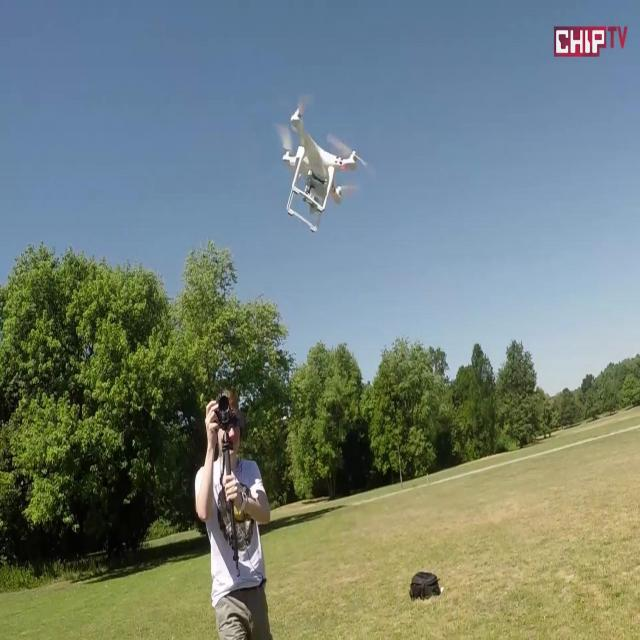drones: (265, 78, 377, 244)
